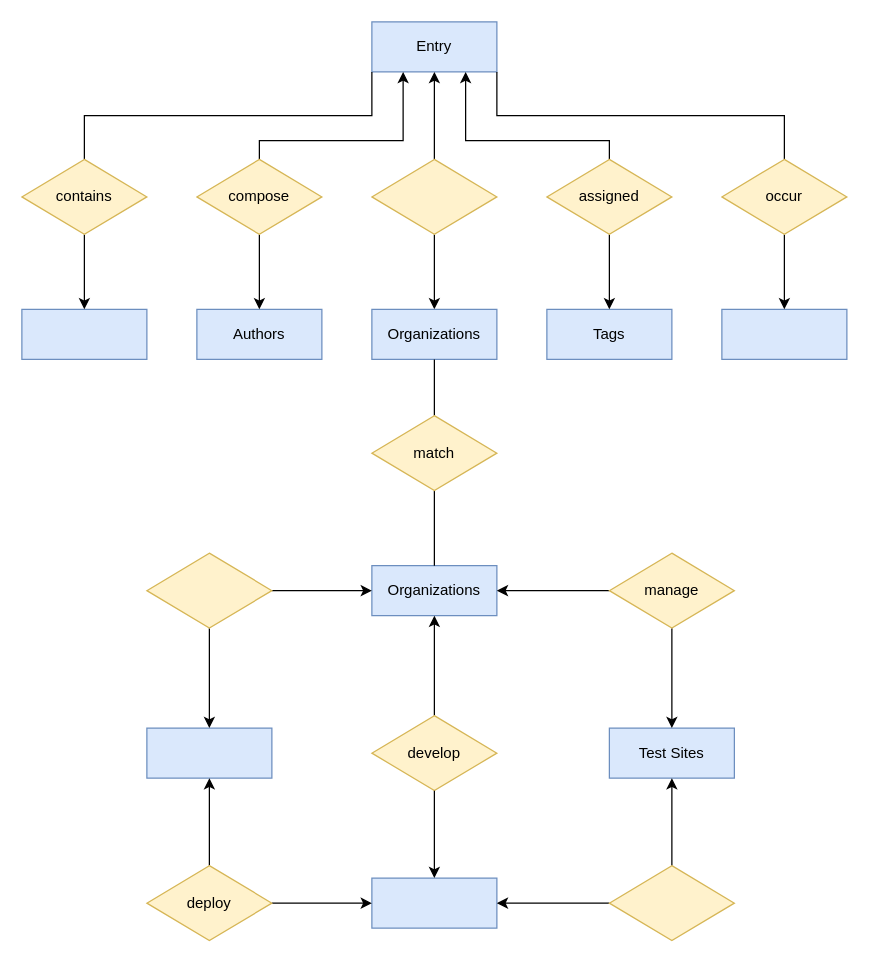
Some shapes in this 869 by 963 pixel diagram are drawn without their labels. Here are the shapes that lost their labels. From the top down, the box of each, then its label:
(371, 158, 497, 234): affiliated
(21, 308, 147, 359): Resources
(721, 308, 847, 359): Location
(146, 552, 272, 628): implement
(146, 727, 272, 778): Projects
(371, 877, 497, 928): Devices
(608, 864, 734, 941): test
